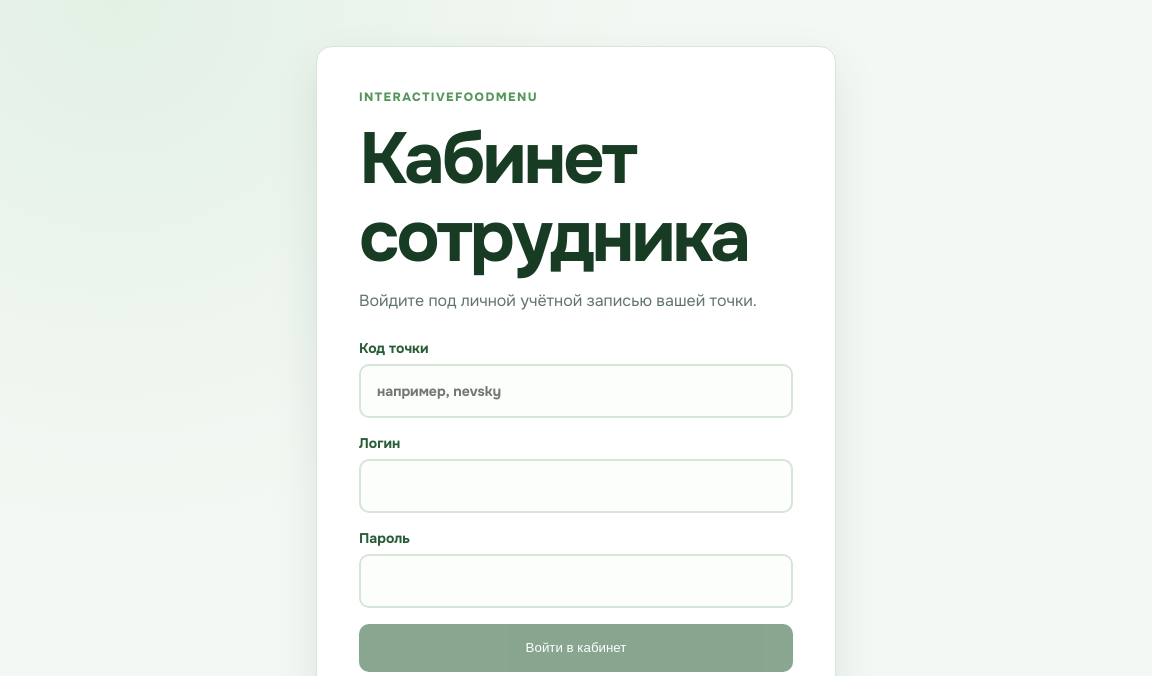
Test: staff application flow › logs in and shows the daily dashboard with onboarding
In the field labelled "Код точки": (576,391) [359,364,793,418], type "wintercafe123"
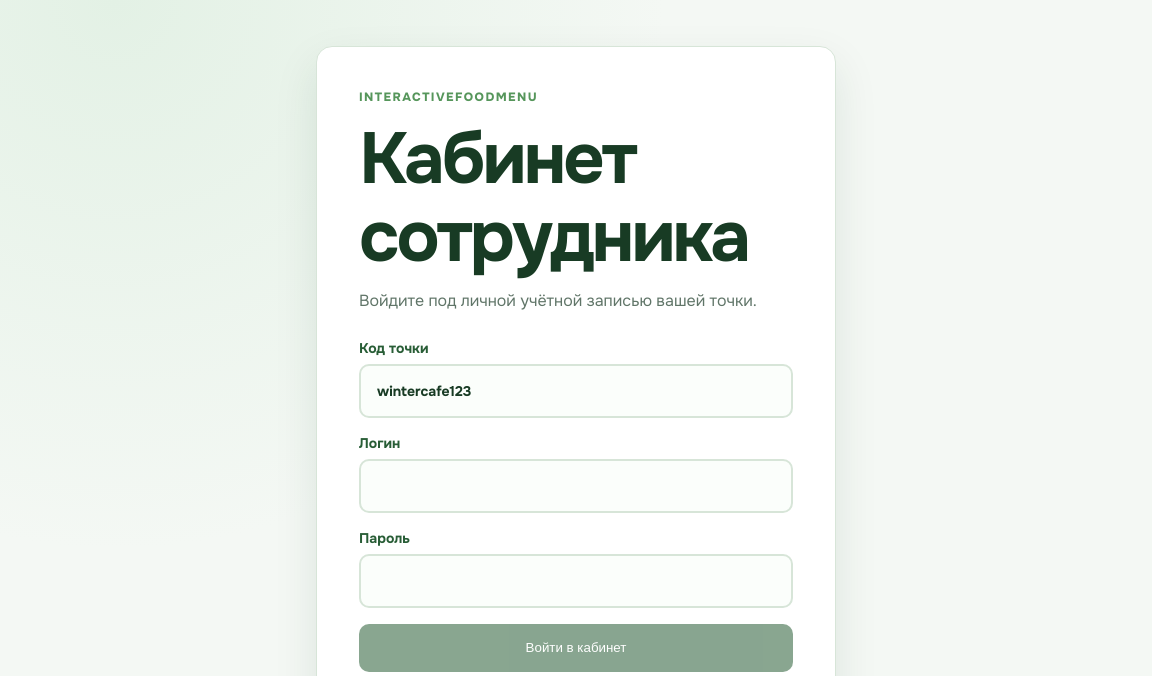
In the field labelled "Логин": (576,486) [359,459,793,513], type "worker"
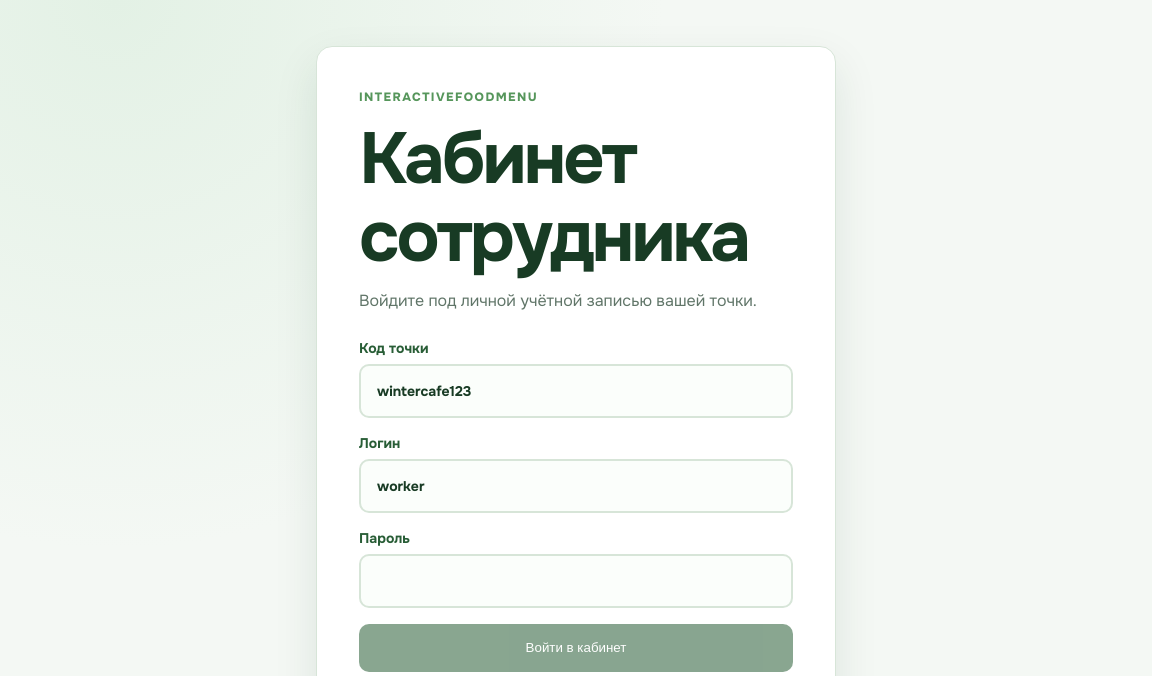
In the password field labelled "Пароль": (576,581) [359,554,793,608], type "personal-password"
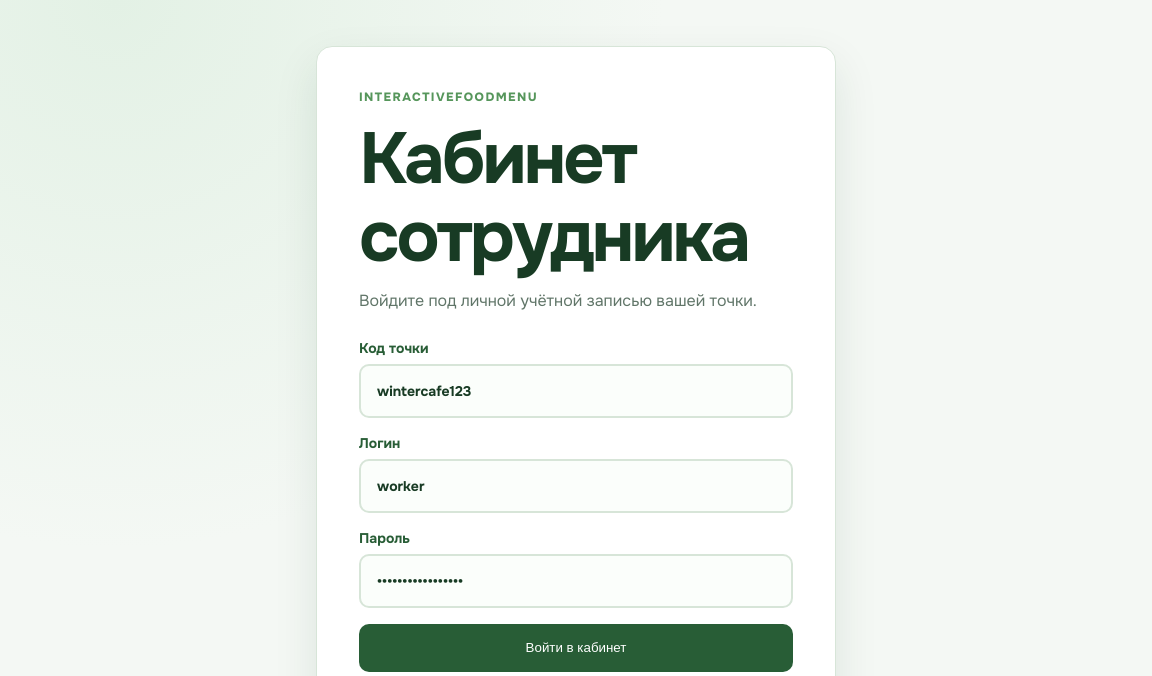
Click the button "Войти в кабинет": (576,648) [359,624,793,672]
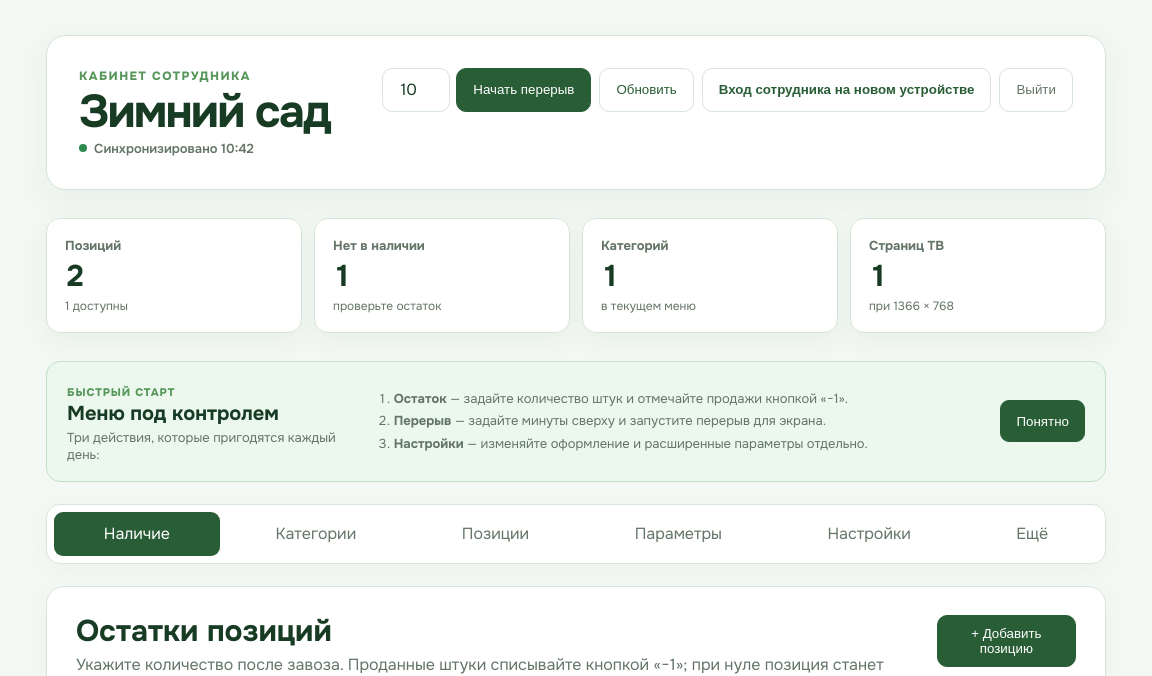
Now the heading "Зимний сад" is shown, box [79,88,330,135]
Now the text "Быстрый старт" is shown, box [67,385,175,399]
Click the button "Понятно": (1043,421) [1000,400,1085,442]
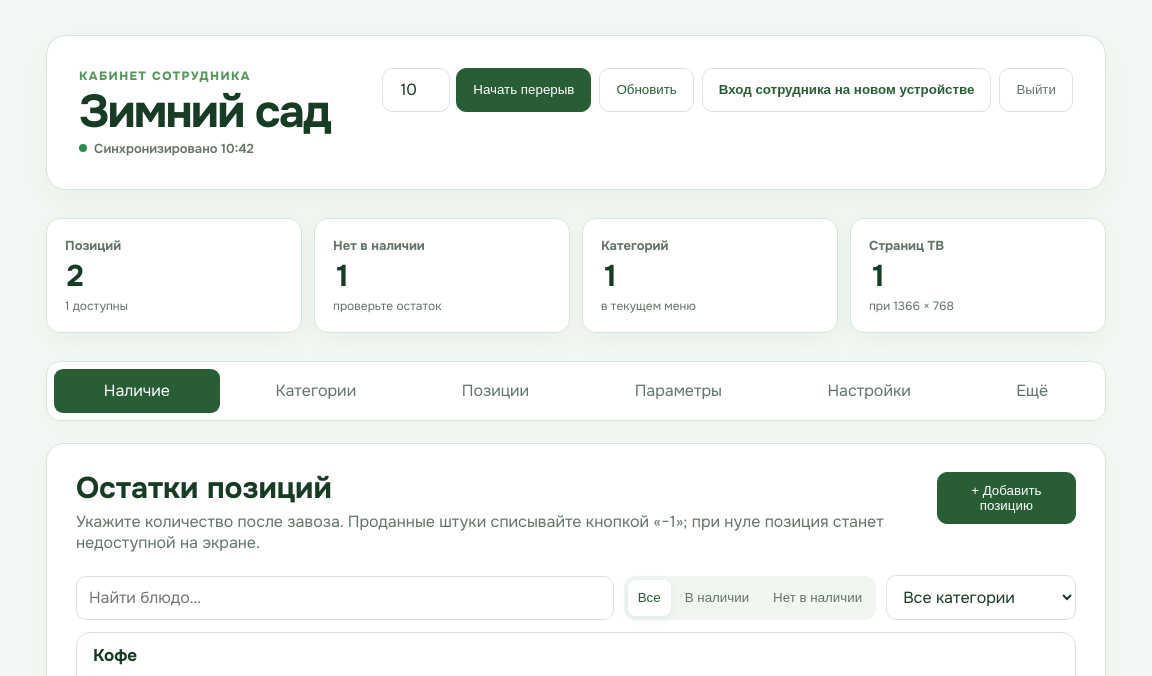
Now the text "Быстрый старт" is gone
